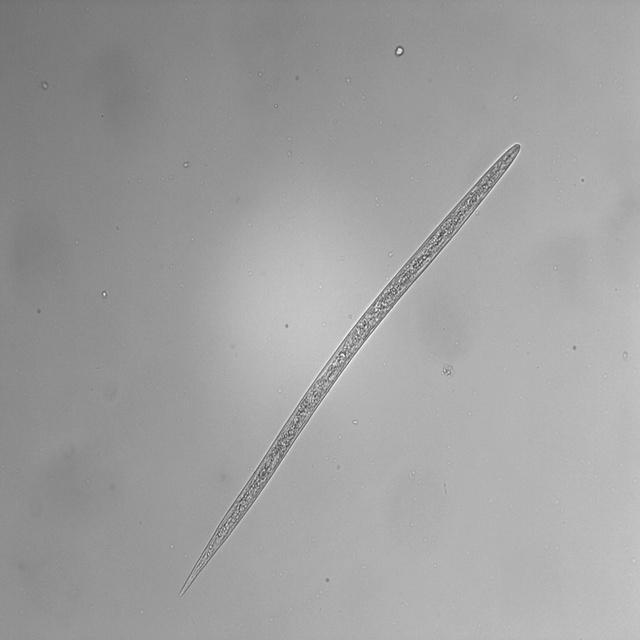Meloidogyne: (170, 137, 524, 602)
